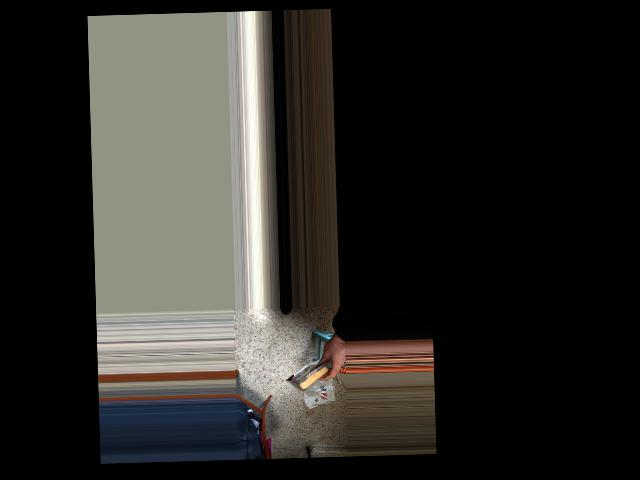cheese: (285, 354, 344, 393)
